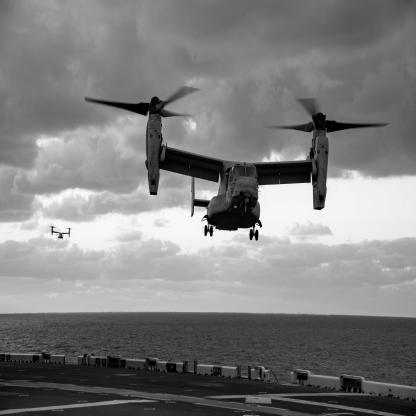V22: (85, 87, 391, 242), (49, 226, 75, 241)
